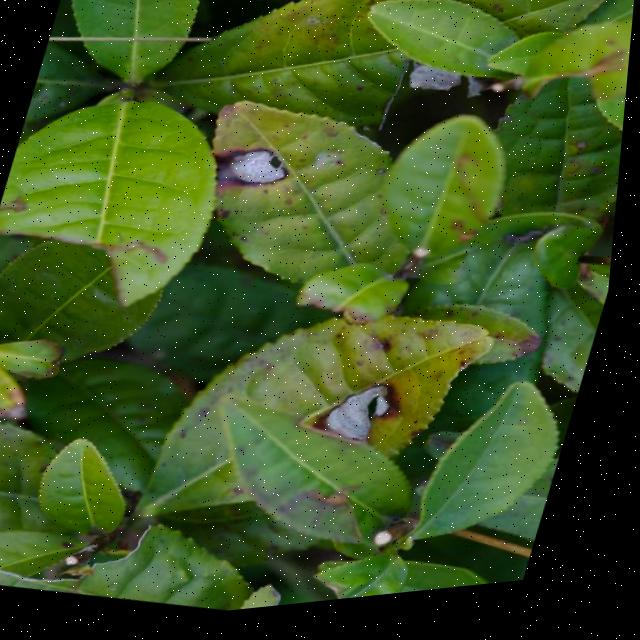Tea cloud leaf blight: (301, 365, 419, 477), (215, 139, 302, 207)
